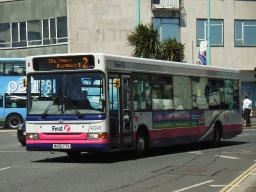bus: (24, 53, 244, 157)
